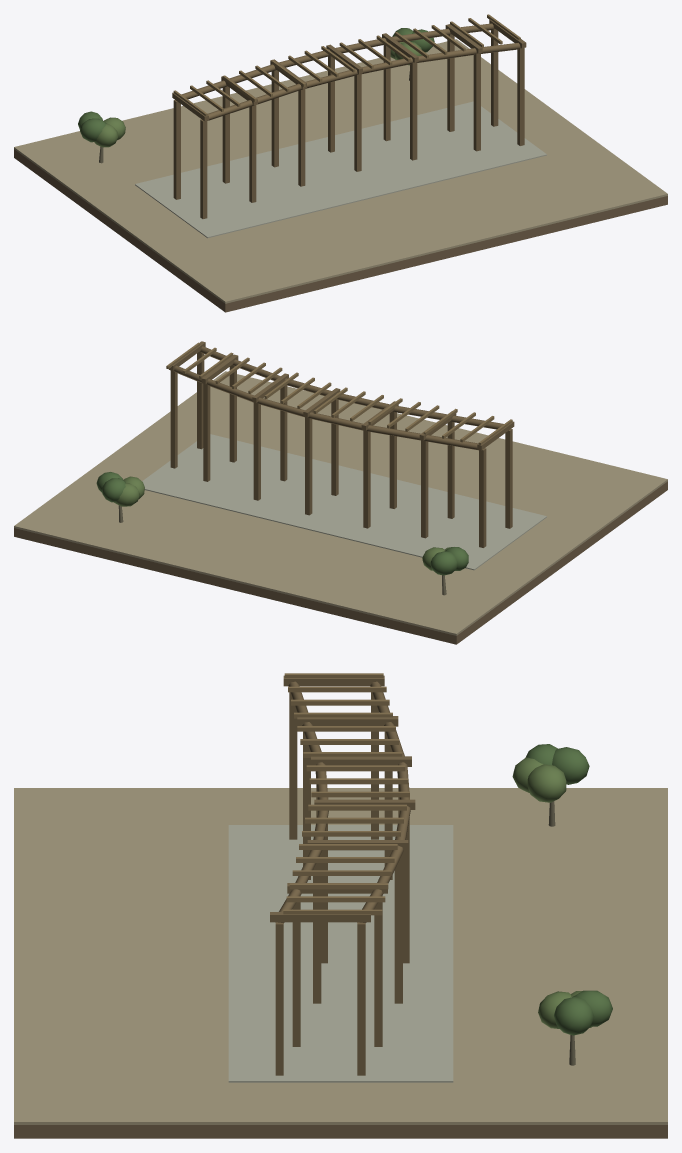
Rendered from gms-19.glb.
3 renders of one model, top to bottom at view 1: azimuth 30°, elevation 25°; view 2: azimuth 150°, elevation 25°; view 3: azimuth 270°, elevation 25°, orthographic. The views are drawn at different scales.
Parts seen in each view (by area): view 1: GMS-19 - estudio del paisaje; view 2: GMS-19 - estudio del paisaje; view 3: GMS-19 - estudio del paisaje.
Part boxes in pixels (x1,y1,x2,y2): GMS-19 - estudio del paisaje: [14, 14, 667, 312]; GMS-19 - estudio del paisaje: [14, 341, 667, 644]; GMS-19 - estudio del paisaje: [14, 673, 667, 1138].
Bounding box in the file's own units: 11.6 × 2.95 × 9.6.
